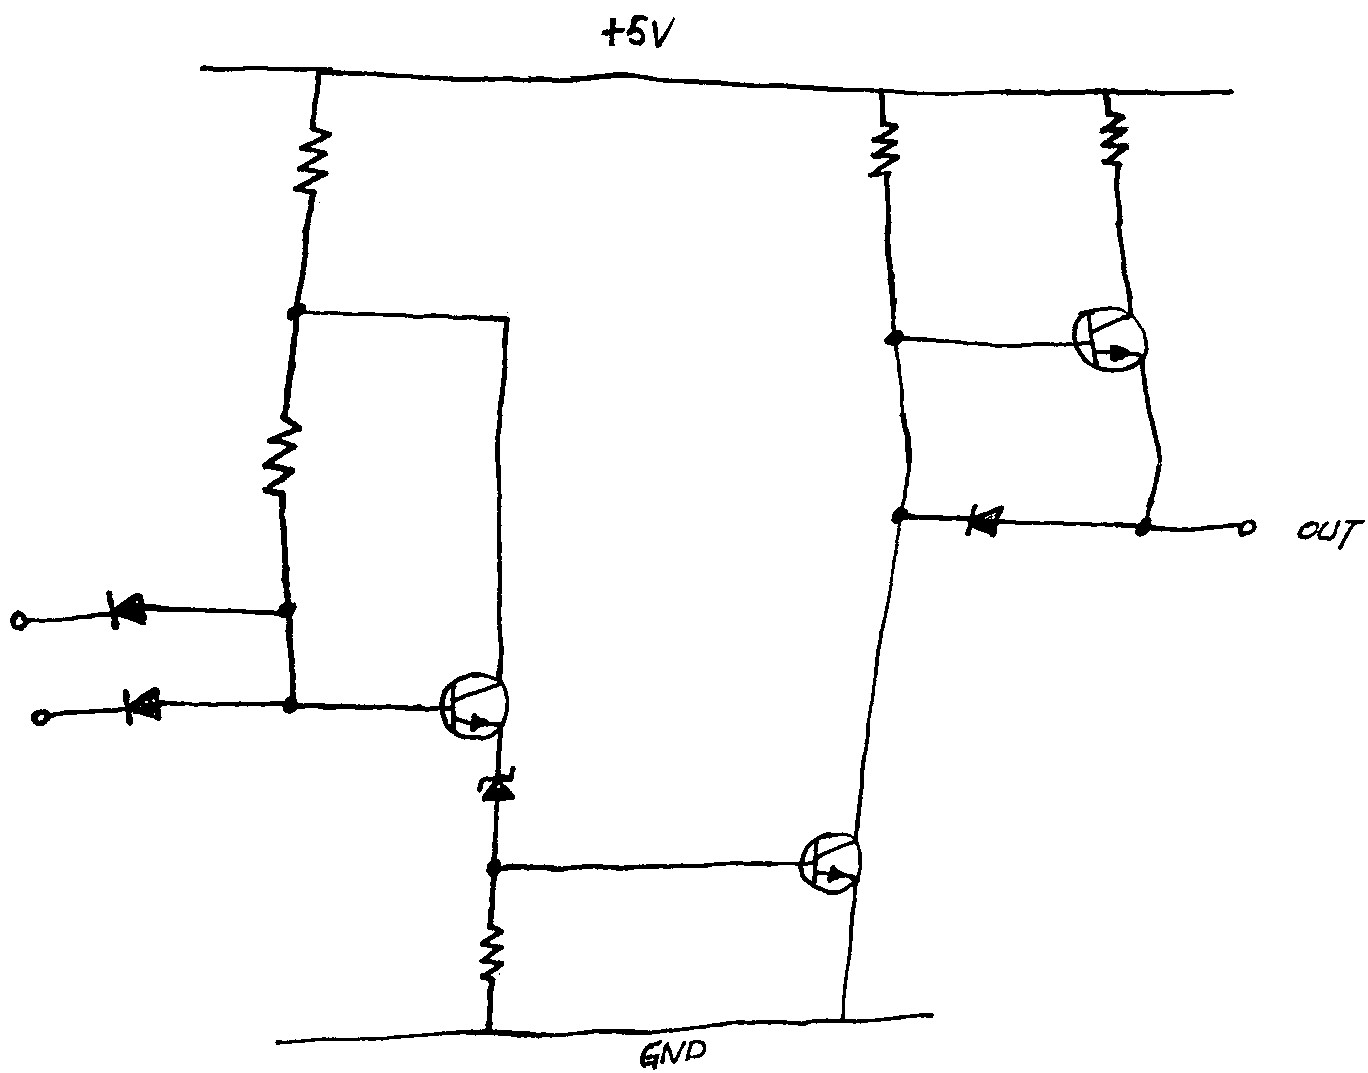diode: (102, 586, 151, 633), (119, 684, 167, 729), (962, 501, 1007, 540)
diode.zener: (473, 764, 521, 806)
junction: (270, 686, 312, 725), (261, 590, 309, 623), (476, 849, 516, 888), (278, 292, 320, 328), (466, 1012, 512, 1044), (874, 319, 914, 355), (819, 1001, 859, 1037), (1127, 504, 1165, 542), (885, 494, 917, 531), (866, 72, 899, 102), (304, 54, 336, 84), (1086, 74, 1124, 99), (487, 305, 517, 333)
resistor: (259, 411, 306, 510), (290, 124, 336, 201), (867, 117, 906, 188), (1096, 107, 1134, 173), (476, 921, 507, 986)
terminal: (1196, 77, 1255, 106), (259, 1029, 321, 1053), (181, 52, 231, 82), (895, 1004, 946, 1031), (7, 608, 32, 634), (1233, 517, 1259, 540), (28, 706, 56, 728)
text: (596, 10, 686, 52), (1295, 512, 1365, 552), (636, 1037, 714, 1070)
transistor.bjt: (1067, 297, 1157, 378), (431, 666, 515, 744), (797, 828, 866, 897)
